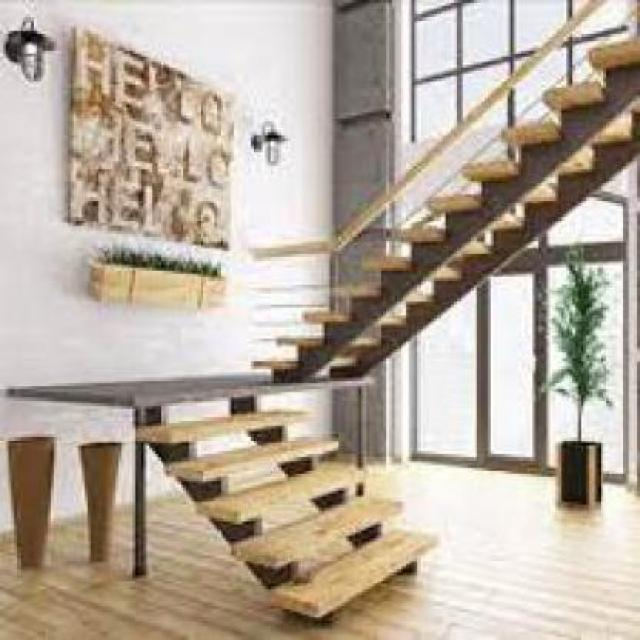stair: (148, 382, 435, 615)
